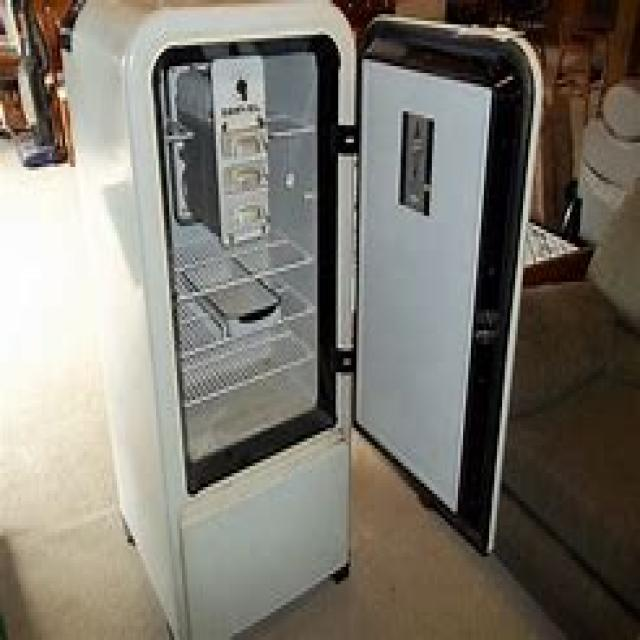fridge: (62, 0, 356, 637)
